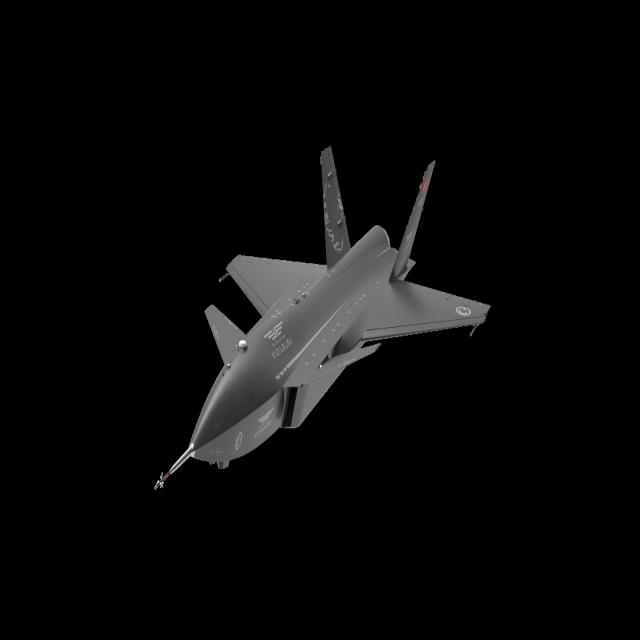drones: (150, 120, 492, 560)
